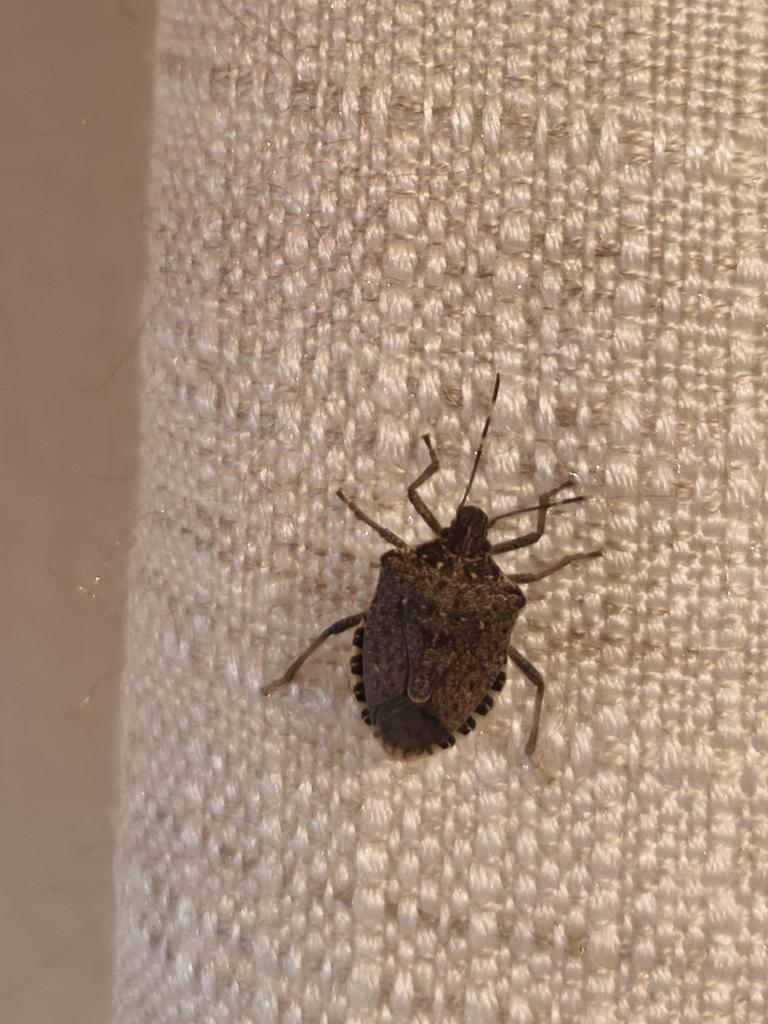stink_bugs: (215, 348, 670, 816)
